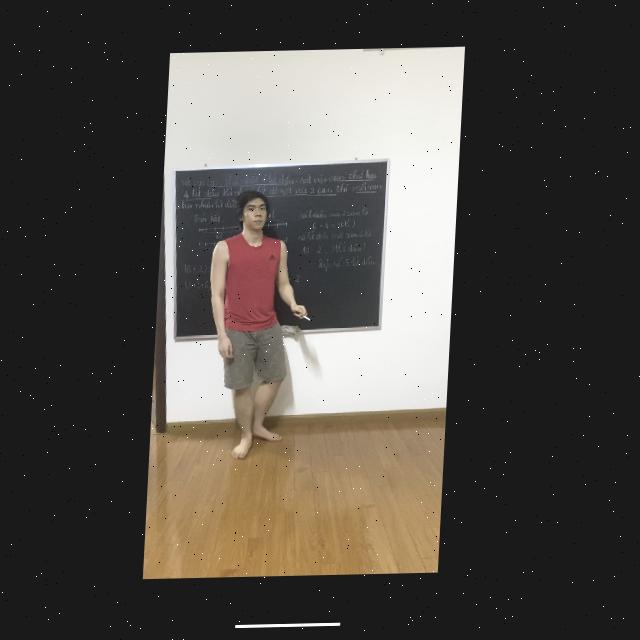cigarette: (302, 314, 313, 322)
